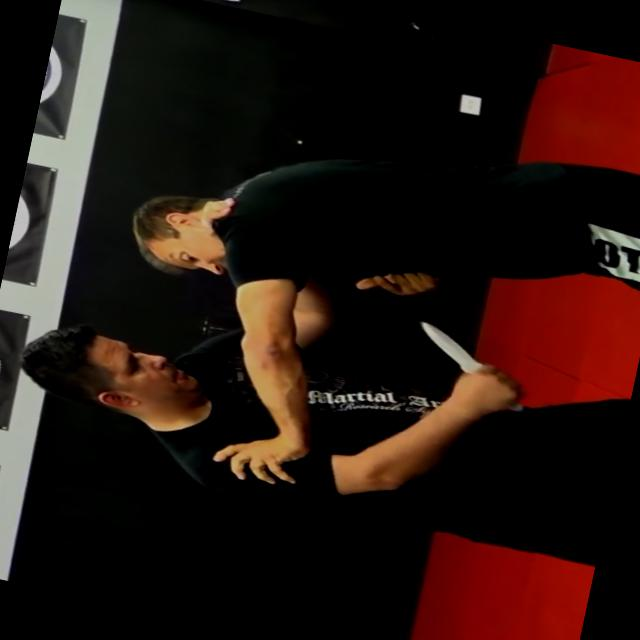knife: (394, 315, 545, 417)
